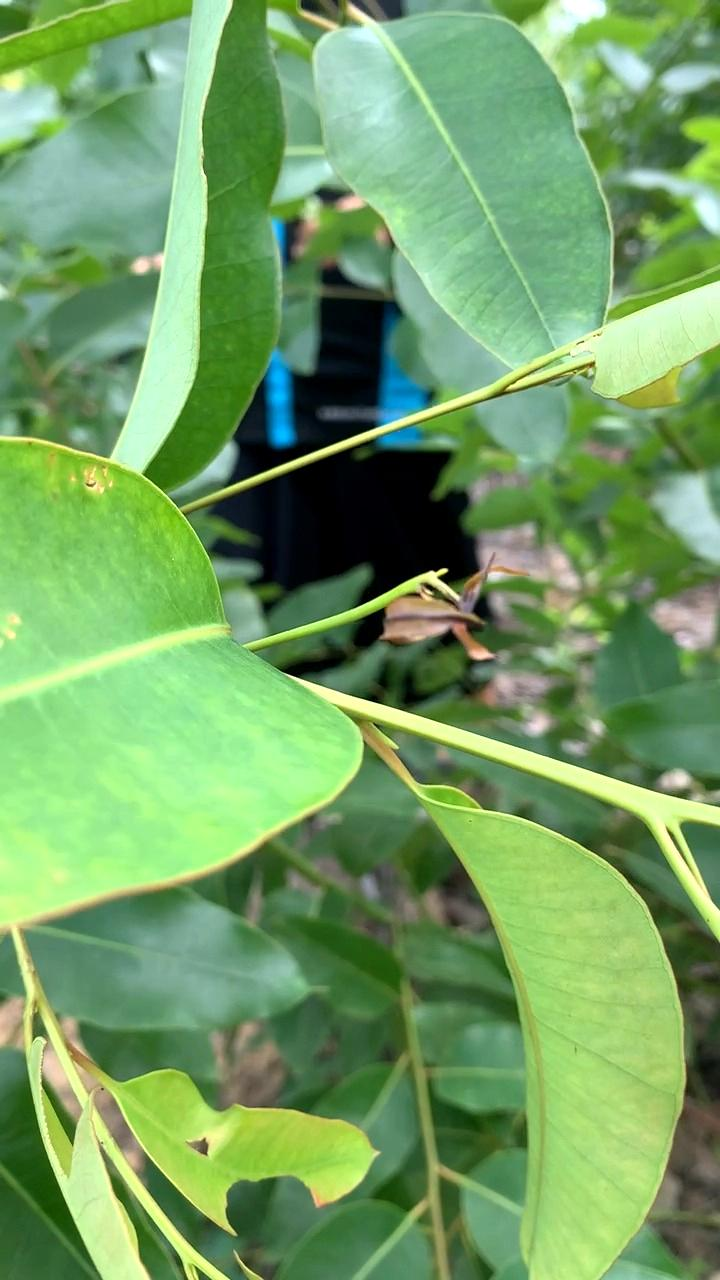Helopeltis-Withered Sprout: (373, 538, 525, 685)
